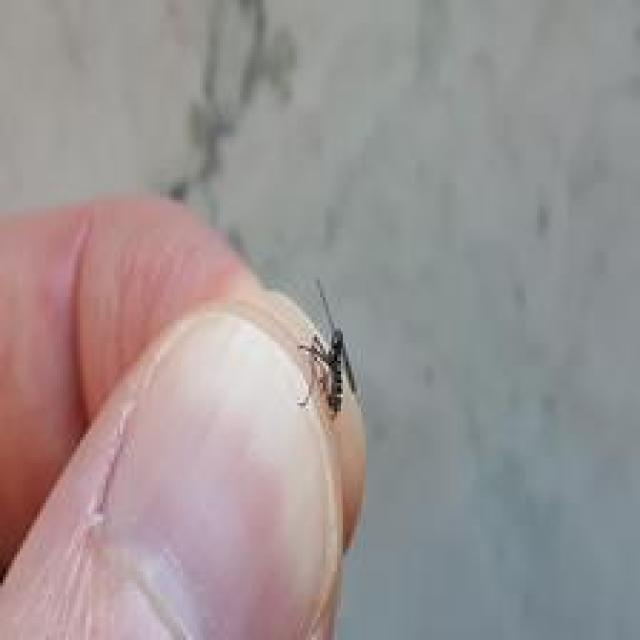Aedes albopictus: (296, 277, 358, 420)
